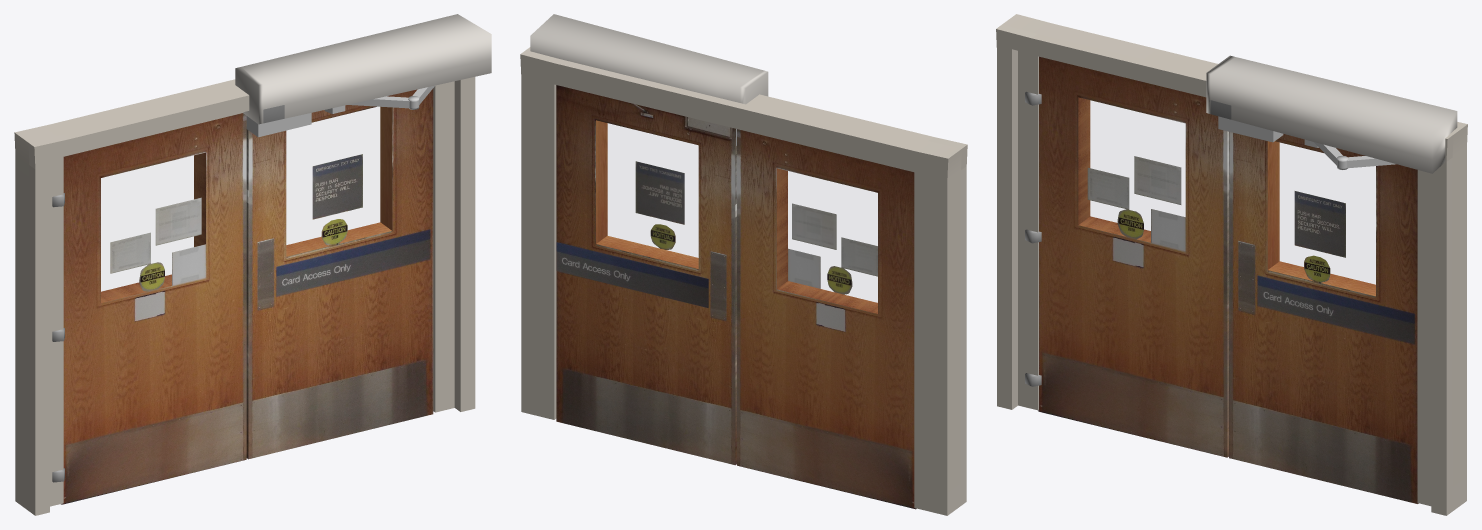
The model's file is fire_doors.fbx.
3 views of the same model, side by side, from view 1: azimuth 30°, elevation 25°; view 2: azimuth 150°, elevation 25°; view 3: azimuth 330°, elevation 25° (orthographic). The views are drawn at different scales.
Visible parts, largest first — view 1: left_door, right_door, door_frame, overhead_block_thing, block_on_door; view 2: left_door, right_door, door_frame, overhead_block_thing; view 3: left_door, right_door, door_frame, overhead_block_thing, block_on_door.
Boxes of the visible parts, x1,y1,x2,y2 form: left_door: (61,113,246,504); right_door: (246,88,433,459); door_frame: (14,77,475,515); overhead_block_thing: (235,14,491,124); block_on_door: (246,113,311,137); left_door: (737,129,916,509); right_door: (556,85,736,465); door_frame: (520,47,967,515); overhead_block_thing: (530,14,768,104); left_door: (1038,56,1228,457); right_door: (1229,132,1418,503); door_frame: (996,14,1467,515); overhead_block_thing: (1206,55,1457,173); block_on_door: (1218,116,1283,142).
Size of the model in its own units: 11.95 by 10 by 2.
7 materials, 1 textured.
